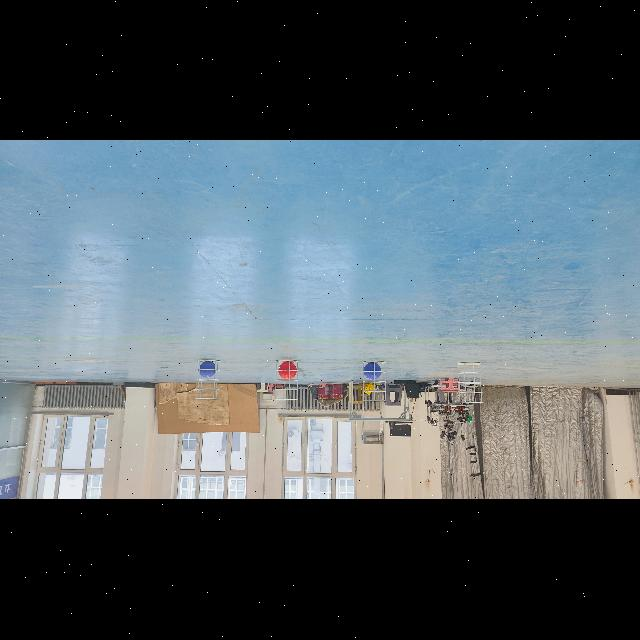B: (364, 363, 382, 381), (200, 362, 216, 378)
R: (279, 362, 297, 380)
S: (194, 357, 222, 403), (456, 360, 484, 406), (272, 358, 300, 402), (360, 360, 388, 404)
